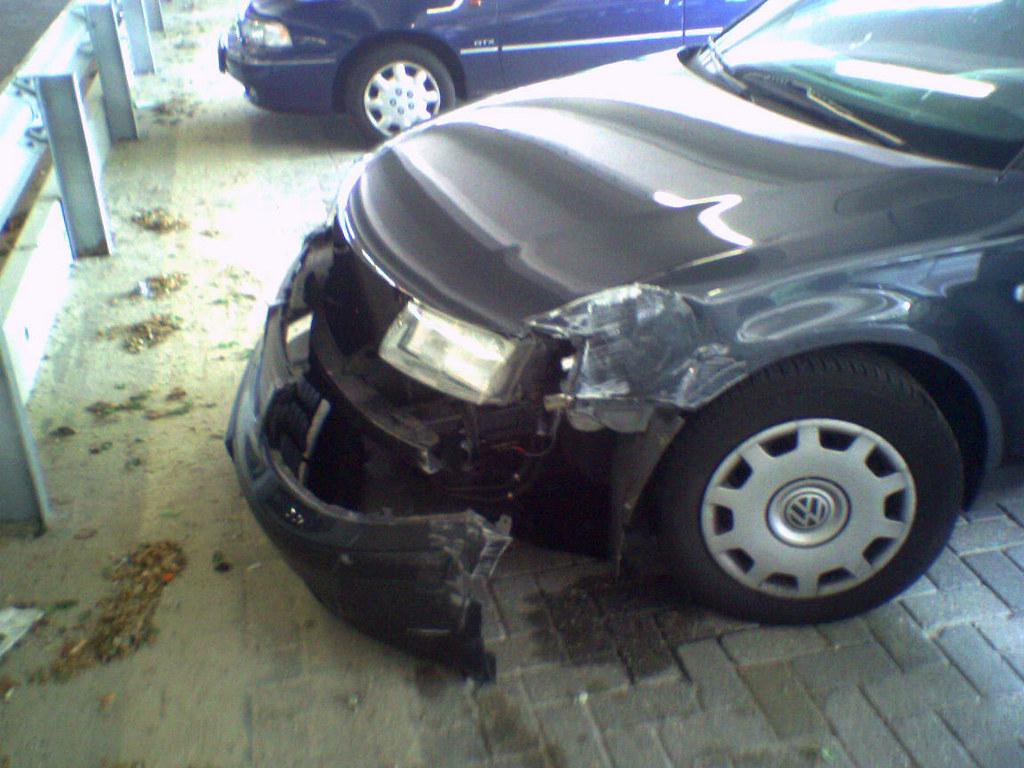fender-dent: (573, 250, 852, 442)
